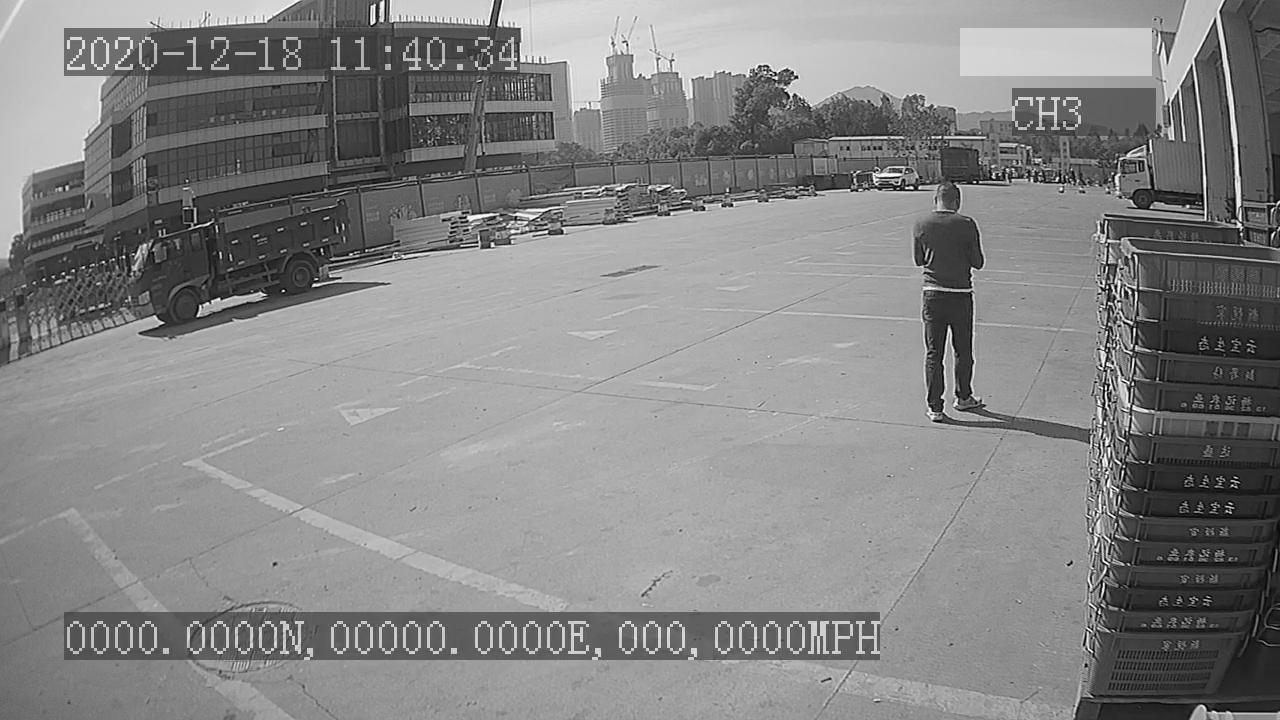person: (908, 179, 989, 427)
